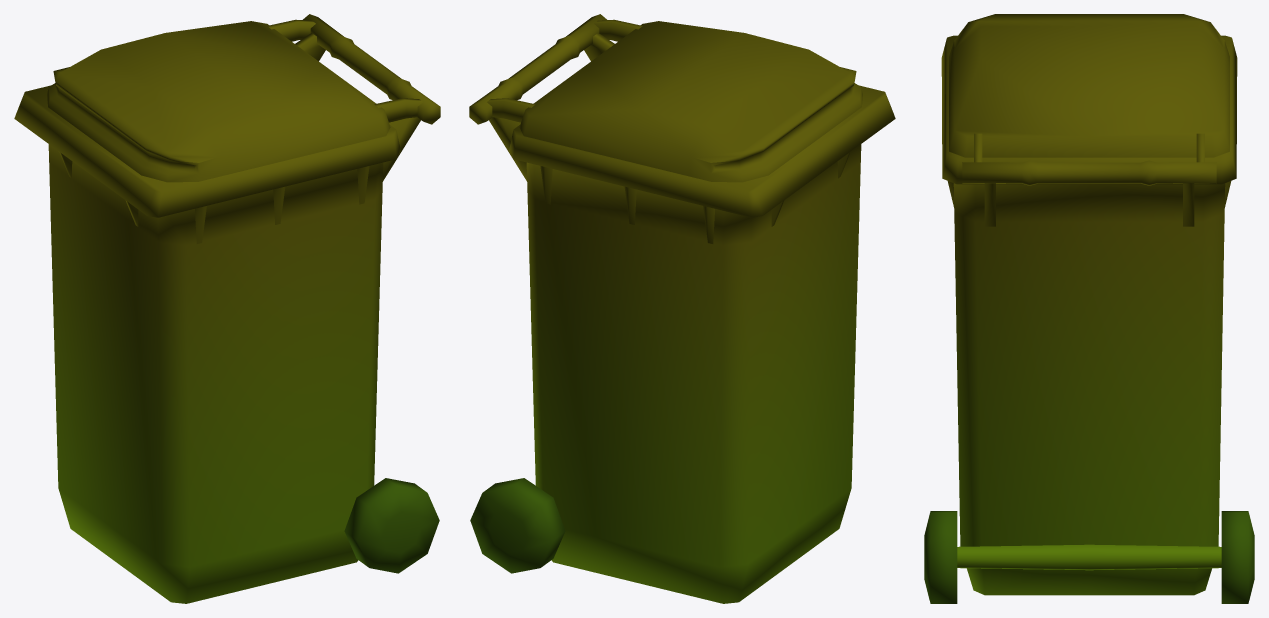
Rendered from WheelyBinRedNight.glb.
3 renders of one model, left to right at view 1: azimuth 30°, elevation 25°; view 2: azimuth 150°, elevation 25°; view 3: azimuth 270°, elevation 25°, orthographic. The views are drawn at different scales.
Parts seen in each view (by area): view 1: WheelyBinRedNight; view 2: WheelyBinRedNight; view 3: WheelyBinRedNight.
Part boxes in pixels (<box>): WheelyBinRedNight: <box>14,14,440,603</box>; WheelyBinRedNight: <box>469,14,895,603</box>; WheelyBinRedNight: <box>924,14,1254,603</box>.
Size of the model in its own units: 1.42 by 2.14 by 1.31.
Materials: 1 (1 with a texture image).
